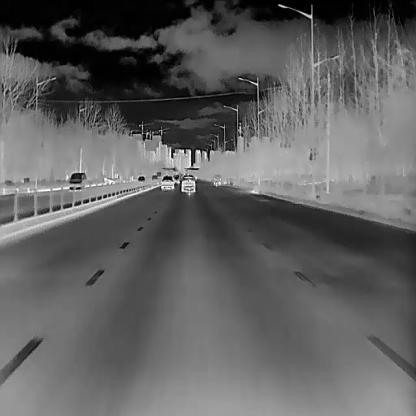car: (68, 171, 85, 191), (181, 174, 195, 192), (160, 175, 173, 190), (213, 174, 221, 186), (136, 175, 145, 181), (150, 174, 158, 180)
